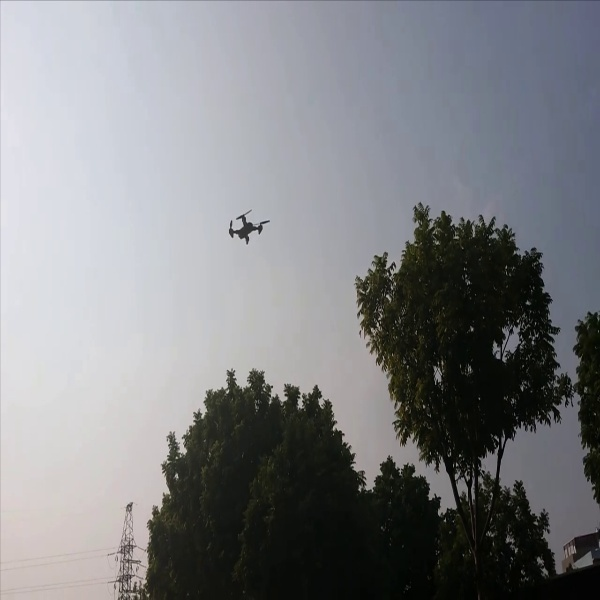drone: (215, 201, 279, 255)
